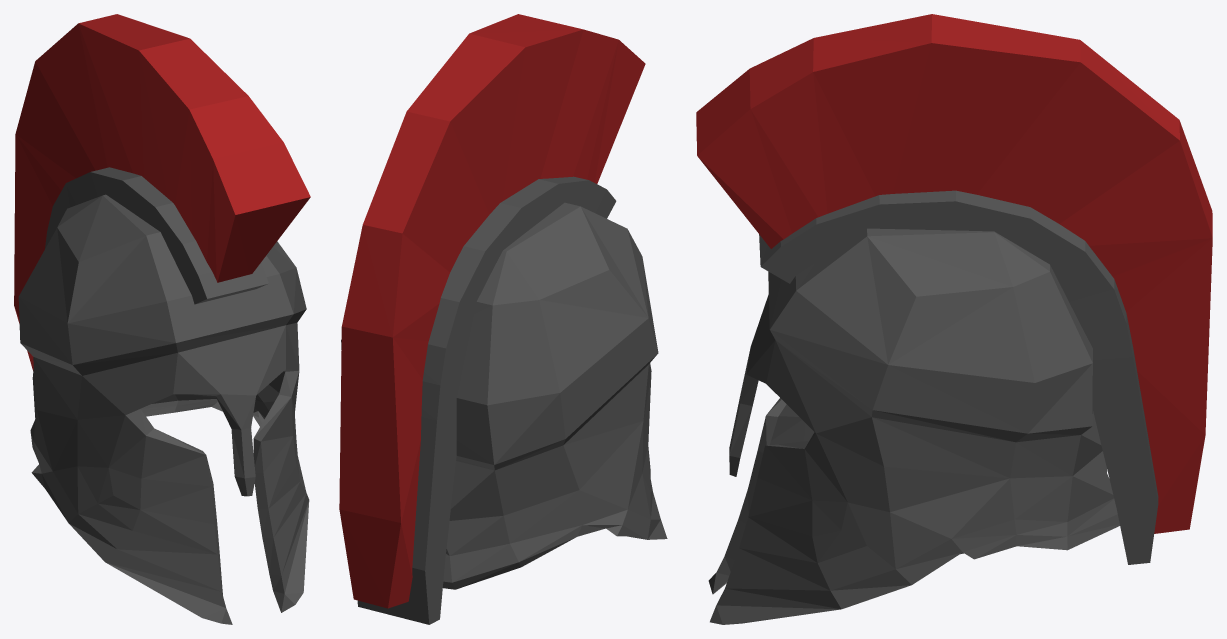
The model's file is SM_helmet_greek_04.fbx.
The picture shows the model from 3 angles, left to right: view 1: azimuth 30°, elevation 25°; view 2: azimuth 150°, elevation 25°; view 3: azimuth 270°, elevation 25°; orthographic projection. The views are drawn at different scales.
Parts seen in each view (by area): view 1: Object32304; view 2: Object32304; view 3: Object32304.
Part boxes in pixels (x1,y1,x2,y2): Object32304: (14,14,310,624); Object32304: (339,14,667,624); Object32304: (696,14,1212,624).
Bounding box in the file's own units: 9.65 × 19.64 × 15.81.
